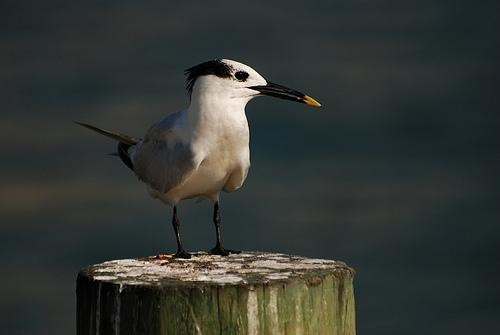bird: (67, 57, 321, 259)
